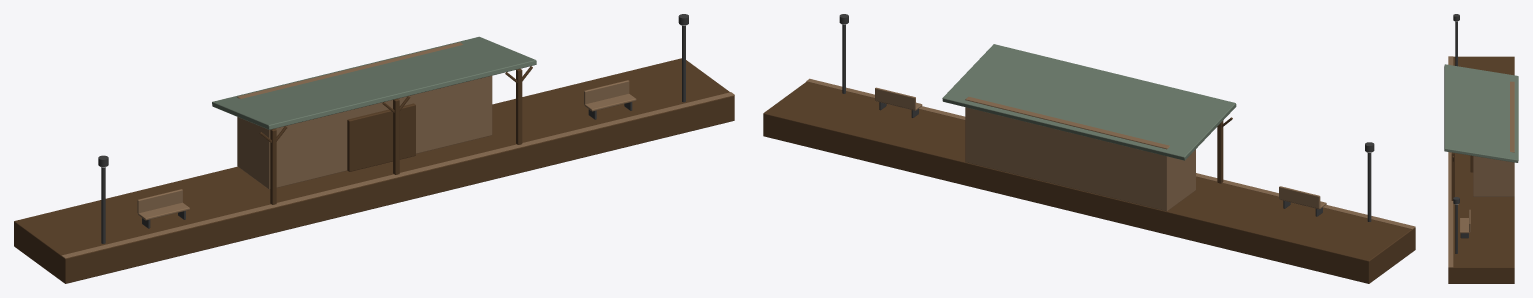
The model's file is Small_Rural_Station.fbx.
3 views of the same model, side by side, from view 1: azimuth 30°, elevation 25°; view 2: azimuth 150°, elevation 25°; view 3: azimuth 270°, elevation 25° (orthographic). The views are drawn at different scales.
Parts seen in each view (by area): view 1: Platform_Wood, Cabin_Main, Roof_Canopy, Cabin_Entrance, Tactile_Strip, Bench_1_Back, Bench_2_Back, Roof_Pillar_2, Roof_Pillar_3, Roof_Pillar_1; view 2: Platform_Wood, Roof_Canopy, Cabin_Main, Tactile_Strip, Bench_1_Back, Bench_2_Back, Roof_Pillar_1; view 3: Platform_Wood, Roof_Canopy, Cabin_Main, Tactile_Strip, Roof_Pillar_3, Lamp_Post_2, Bench_2_Seat, Lamp_Post_1, Cabin_Entrance.
Boxes of the visible parts, x1,y1,x2,y2 form: Platform_Wood: [14, 58, 734, 283]; Cabin_Main: [237, 42, 492, 189]; Roof_Canopy: [212, 36, 536, 129]; Cabin_Entrance: [347, 103, 415, 171]; Tactile_Strip: [61, 92, 734, 258]; Bench_1_Back: [137, 189, 182, 213]; Bench_2_Back: [584, 80, 629, 104]; Roof_Pillar_2: [393, 98, 399, 174]; Roof_Pillar_3: [516, 68, 522, 144]; Roof_Pillar_1: [270, 128, 276, 204]; Platform_Wood: [763, 81, 1415, 283]; Roof_Canopy: [942, 44, 1236, 160]; Cabin_Main: [965, 97, 1195, 211]; Tactile_Strip: [806, 78, 1415, 229]; Bench_1_Back: [1279, 186, 1320, 208]; Bench_2_Back: [875, 87, 915, 110]; Roof_Pillar_1: [1217, 121, 1223, 183]; Platform_Wood: [1448, 56, 1514, 283]; Roof_Canopy: [1444, 64, 1518, 162]; Cabin_Main: [1473, 81, 1514, 196]; Tactile_Strip: [1448, 56, 1453, 267]; Roof_Pillar_3: [1451, 152, 1454, 200]; Lamp_Post_2: [1455, 204, 1457, 253]; Bench_2_Seat: [1460, 218, 1469, 233]; Lamp_Post_1: [1455, 21, 1457, 66]; Cabin_Entrance: [1470, 155, 1473, 172].
Size of the model in its own units: 30 by 4.46 by 4.78.
